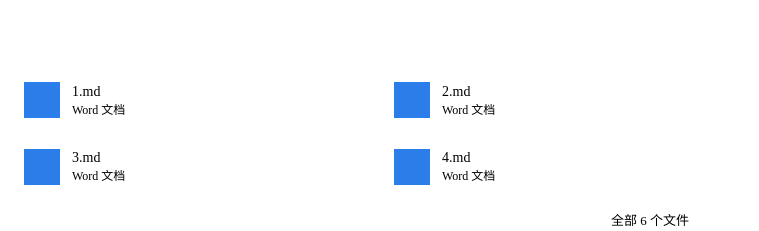
Test: FileCard 与 AnswerActions › 一个文件占满一行，多个排两列；超过四个先收起，「全部 N 个文件」展开、「收起」收回
The width and height of the screenshot is (759, 231).
(page scrolled)
Click the button with aria-label "展开全部 6 个交付文件" at (652, 221), box [600,211,704,230]
(page scrolled)
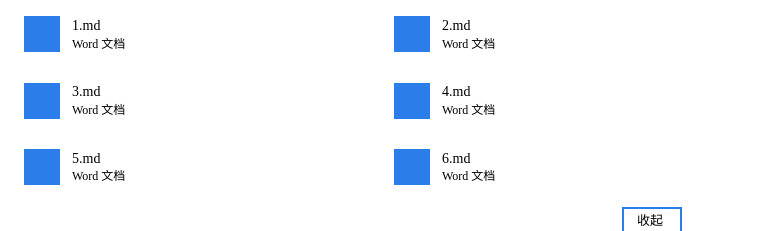
Click the button named "预览 6.md" at (562, 167), box [382,139,742,195]
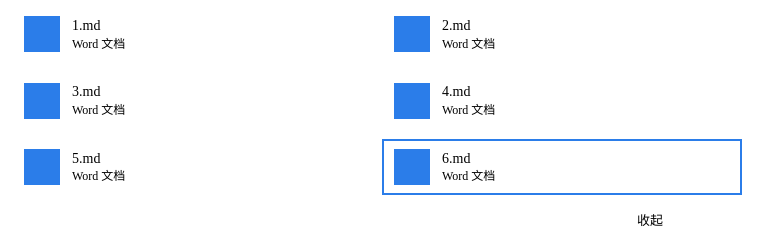
Click the button with aria-label "收起交付文件列表" at (652, 221), box [626,211,678,230]
(page scrolled)
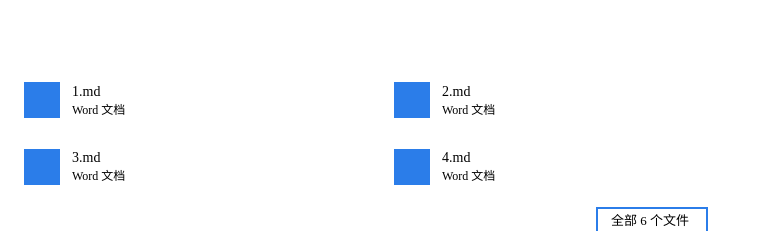
Expected: the text "全部 6 个文件" is shown, [611,212,689,230]
